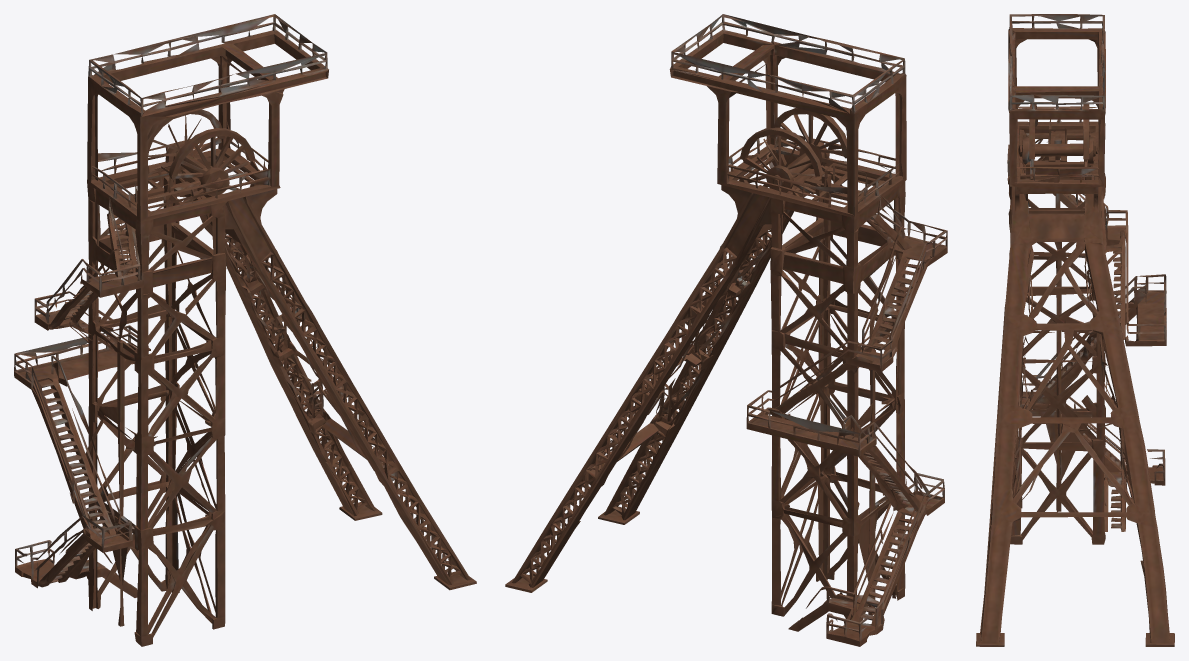
File: lattice_headframe_strut__b.glb
3 renders of one model, left to right at view 1: azimuth 30°, elevation 25°; view 2: azimuth 150°, elevation 25°; view 3: azimuth 270°, elevation 25°, orthographic. The views are drawn at different scales.
Parts seen in each view (by area): view 1: main; view 2: main; view 3: main.
Boxes of the visible parts, x1,y1,x2,y2 form: main: [14, 14, 476, 646]; main: [505, 14, 947, 646]; main: [976, 14, 1174, 646].
Bounding box in the file's own units: 9.57 × 14 × 5.1.
1 material, 1 textured.
